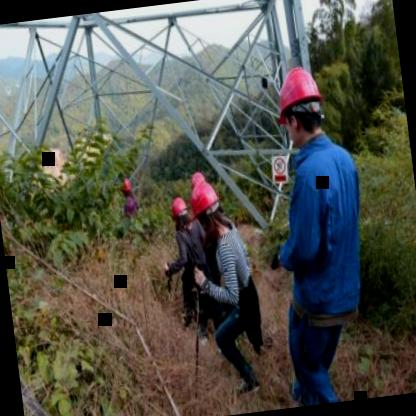helmet: (267, 57, 334, 156), (190, 178, 224, 238), (171, 194, 190, 229)
